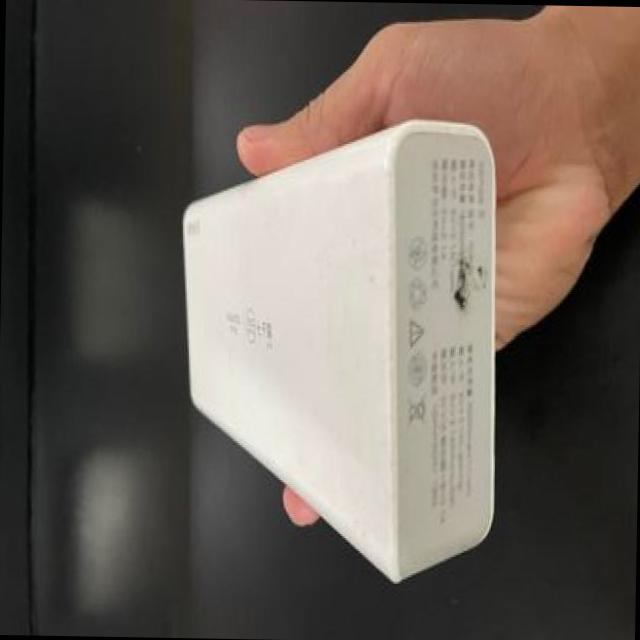portable-charger: (158, 106, 510, 588)
